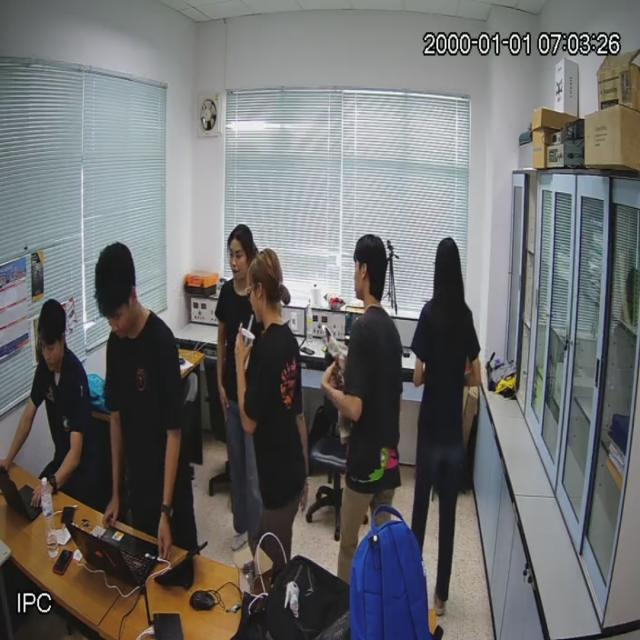normal: (92, 236, 200, 564), (408, 235, 484, 633), (331, 229, 406, 571), (244, 249, 313, 578), (31, 290, 96, 512)
